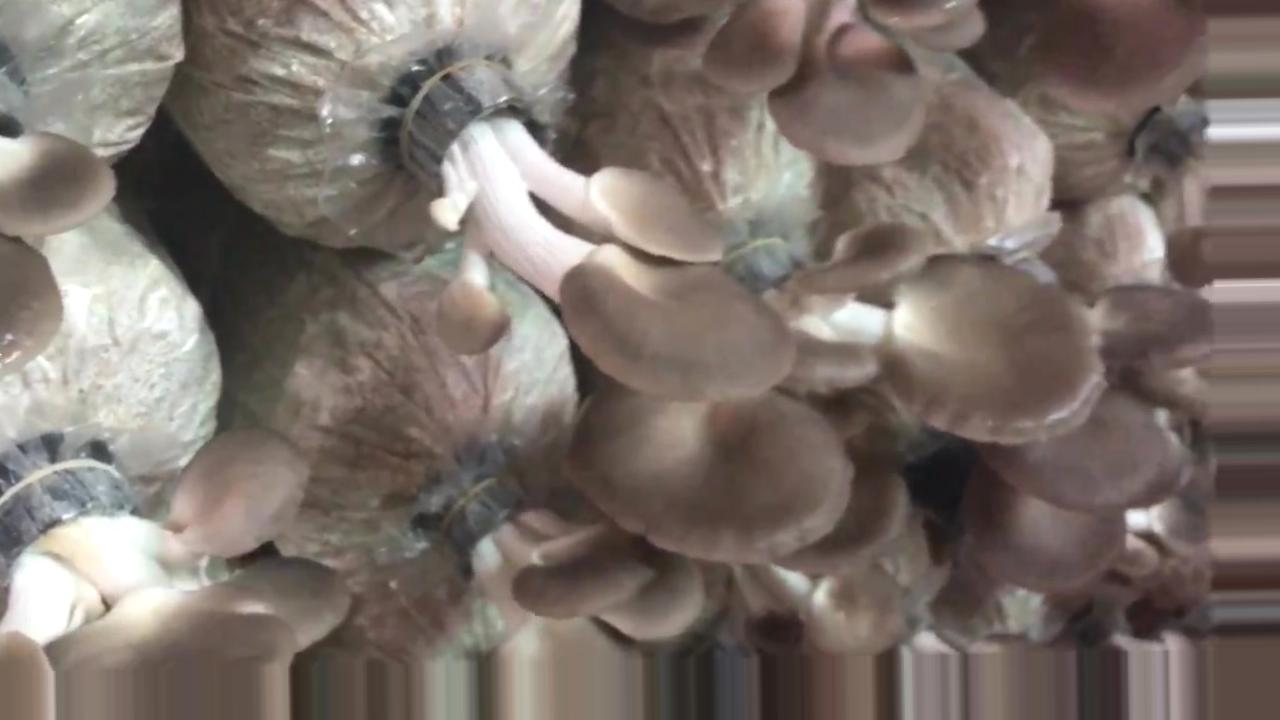nam: (556, 221, 1110, 567), (396, 45, 795, 399), (959, 255, 1278, 592), (1, 424, 357, 720), (427, 471, 708, 720), (696, 1, 995, 167), (1, 123, 124, 373)
